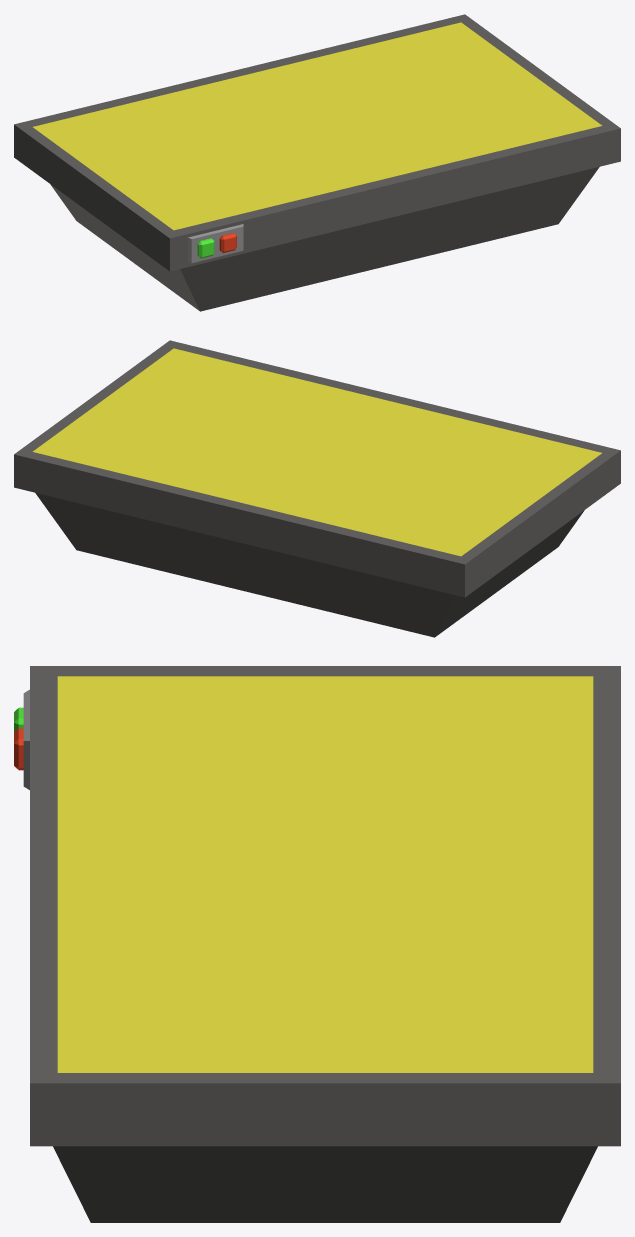
File: workbench.fbx
3 views of the same model, one above another, from view 1: azimuth 30°, elevation 25°; view 2: azimuth 150°, elevation 25°; view 3: azimuth 270°, elevation 25° (orthographic). The views are drawn at different scales.
Parts seen in each view (by area): view 1: Workbench; view 2: Workbench; view 3: Workbench.
Part boxes in pixels (x1,y1,x2,y2): Workbench: (14, 14, 620, 311); Workbench: (14, 340, 620, 637); Workbench: (14, 666, 620, 1222).
Bounding box in the file's own units: 203 × 125 × 41.3.
